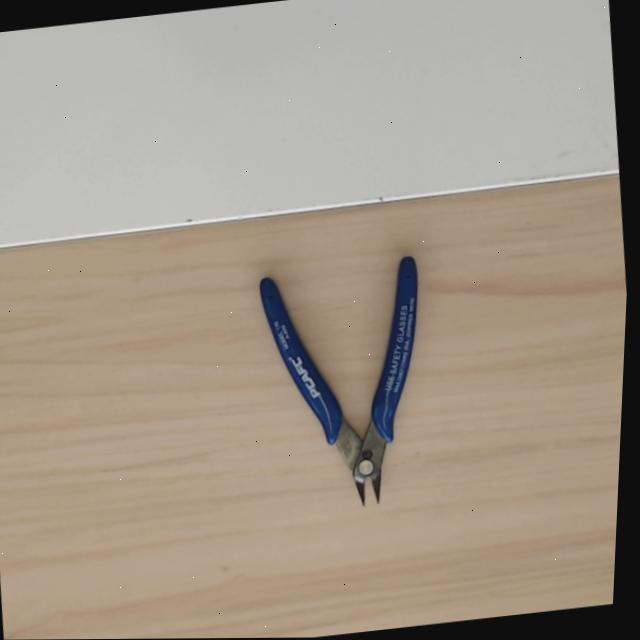Tang-Potong-Biru: (257, 248, 460, 518)
